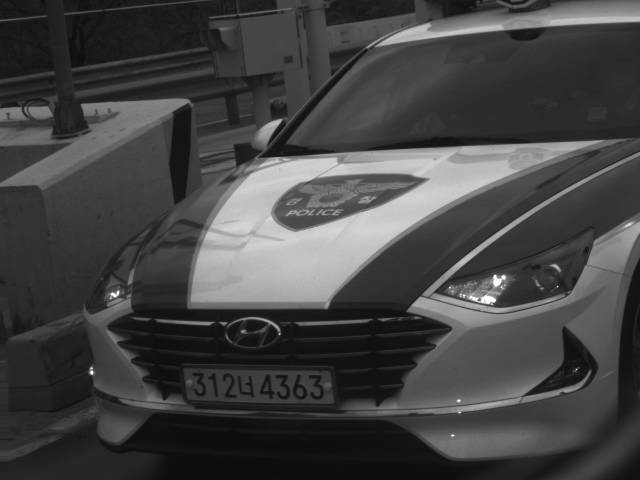car: (82, 1, 640, 471)
plate: (180, 365, 337, 406)
